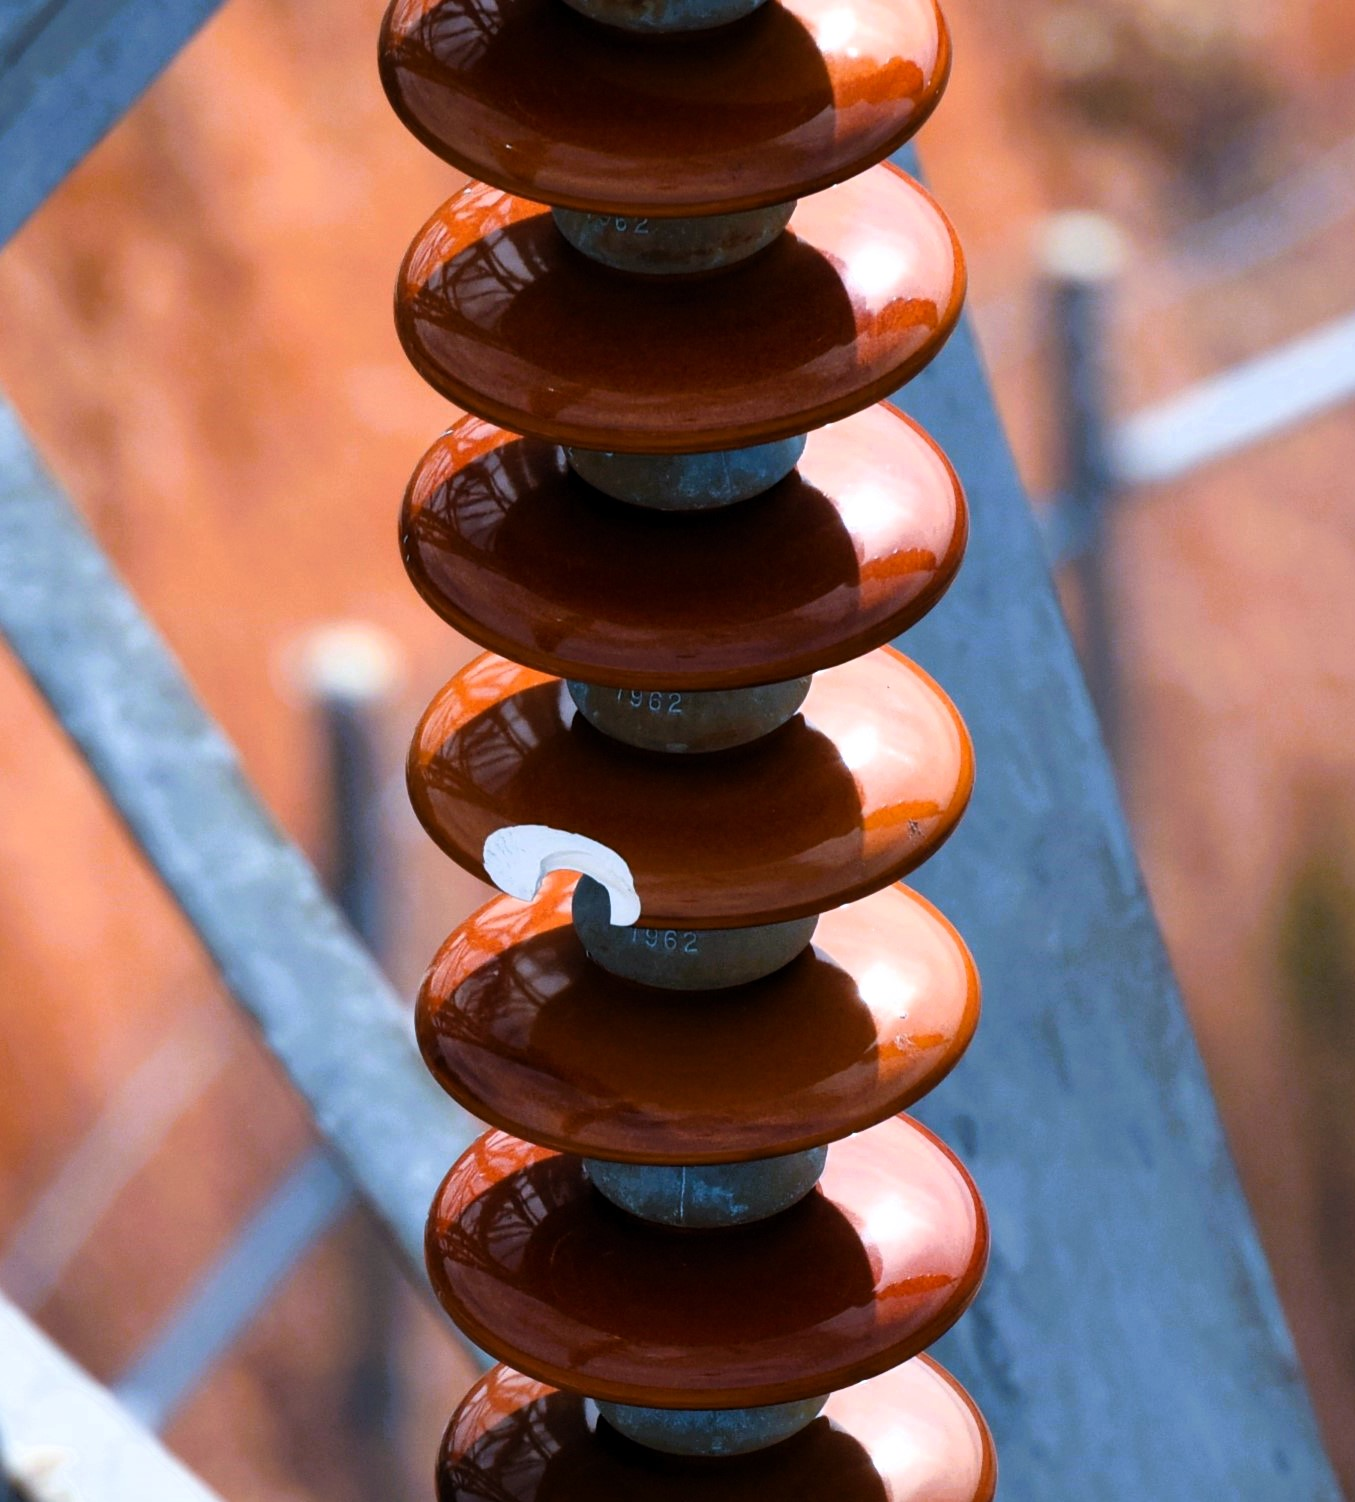insulator breakage: (388, 629, 986, 937)
